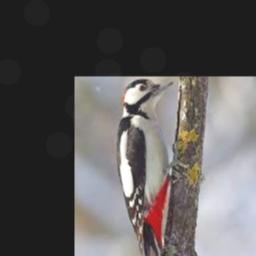Woodpecker: (115, 78, 184, 256)
